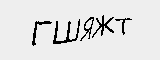Г: (29, 19, 50, 46)
Ж: (93, 14, 116, 39)
Т: (115, 15, 132, 36)
Ш: (52, 18, 80, 43)
Я: (80, 14, 95, 40)
